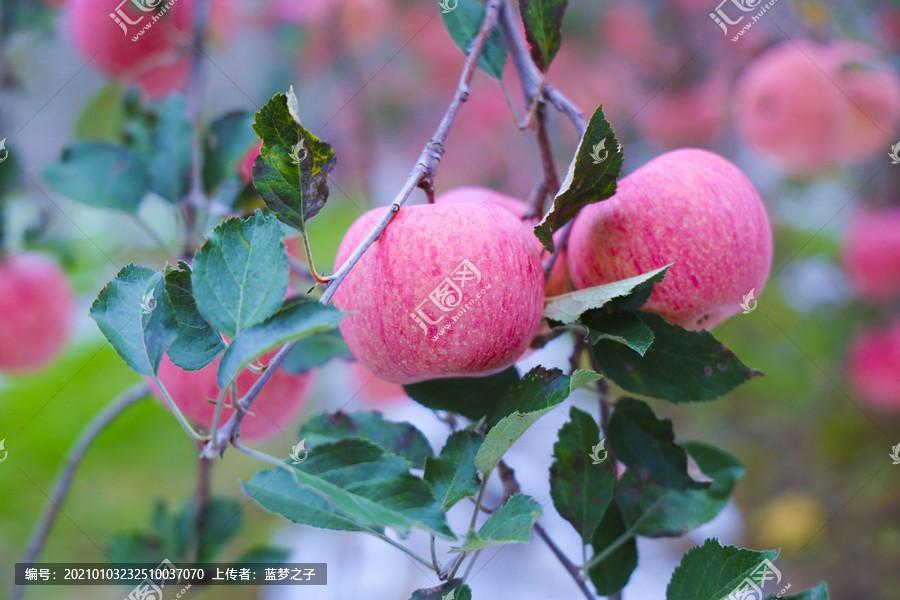apple: (328, 194, 555, 381), (557, 139, 771, 333)
